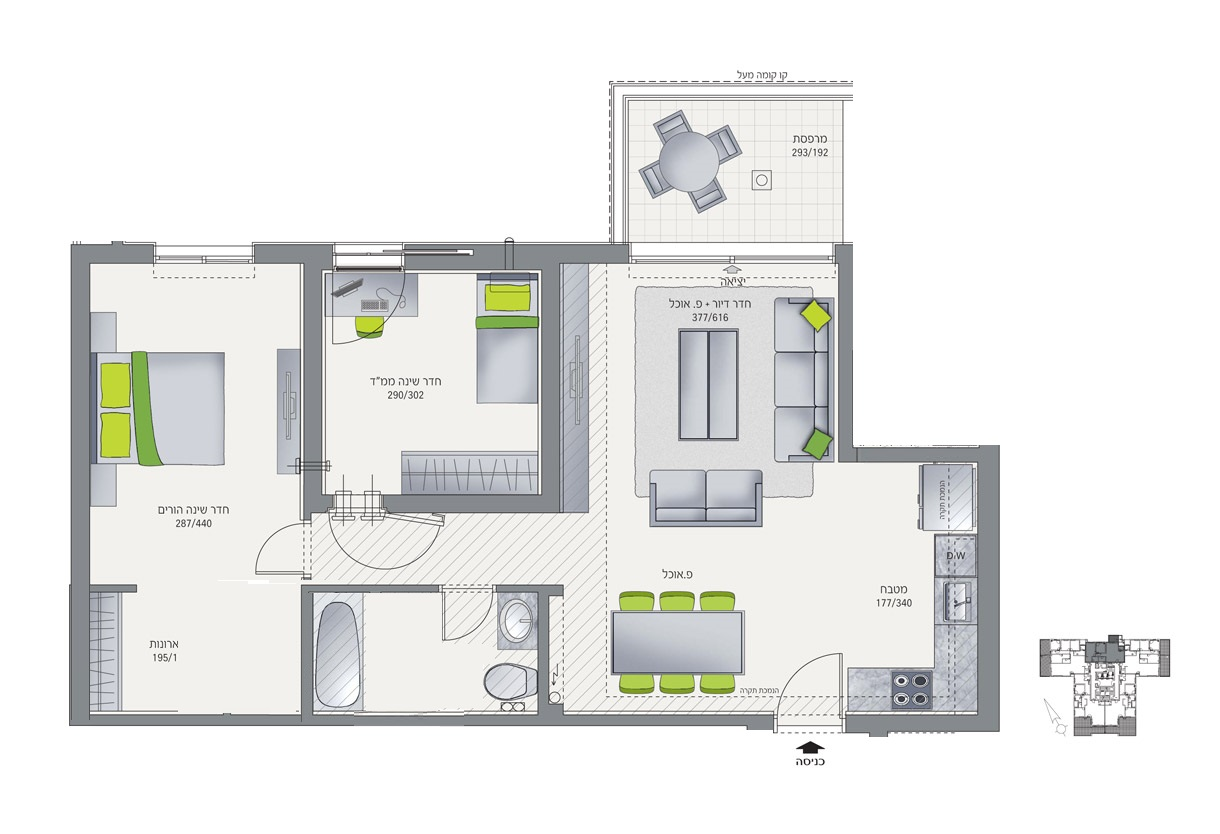door: (768, 648, 845, 709), (252, 520, 301, 583), (437, 594, 494, 645)
wall: (69, 246, 89, 728), (69, 715, 775, 726), (977, 446, 999, 730), (541, 243, 559, 513), (837, 242, 853, 463), (391, 497, 560, 511), (847, 714, 998, 729), (539, 587, 552, 726), (302, 586, 311, 727)
window: (629, 242, 834, 264), (154, 246, 255, 263)
